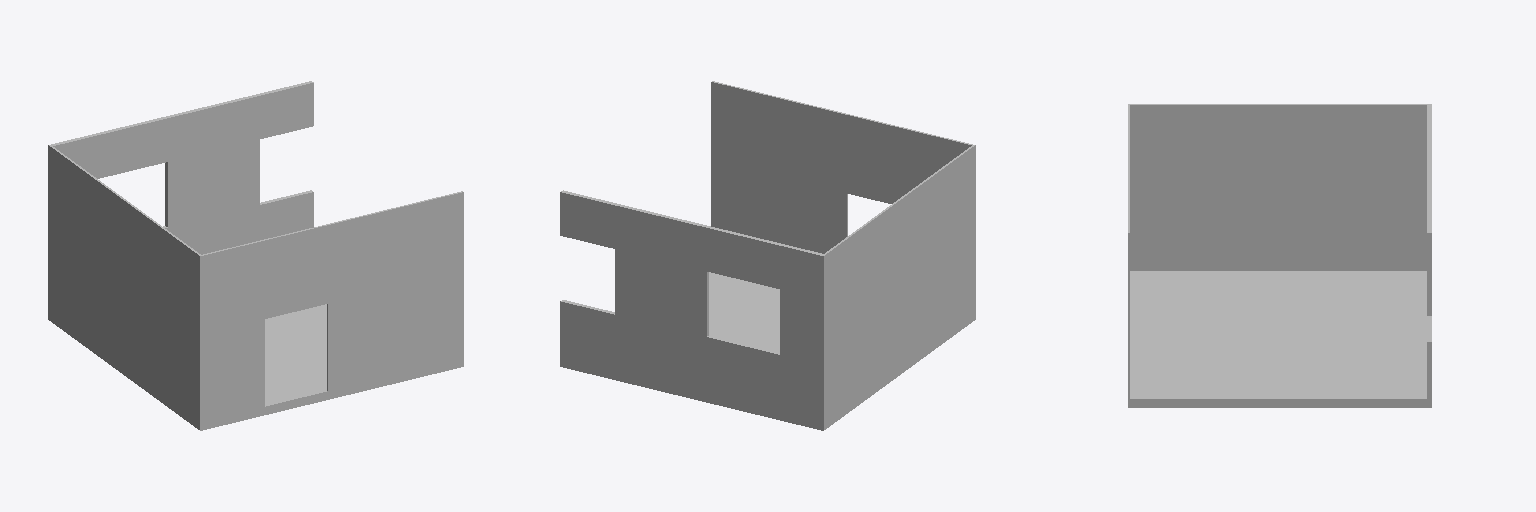
The model's file is 4x4 first-8.obj.
3 views of the same model, side by side, from view 1: azimuth 30°, elevation 25°; view 2: azimuth 150°, elevation 25°; view 3: azimuth 270°, elevation 25° (orthographic).
Parts seen in each view (by area): view 1: 4x4 first-8; view 2: 4x4 first-8; view 3: 4x4 first-8.
Part boxes in pixels (x1,y1,x2,y2): 4x4 first-8: (48,81,463,430); 4x4 first-8: (560,81,975,430); 4x4 first-8: (1128,104,1431,407).
Bounding box in the file's own units: 126 × 80 × 126.